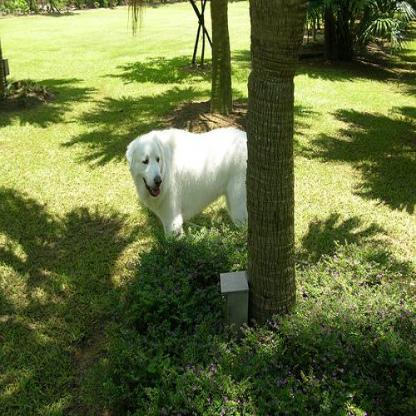Great_Pyrenees: (123, 124, 247, 241)
